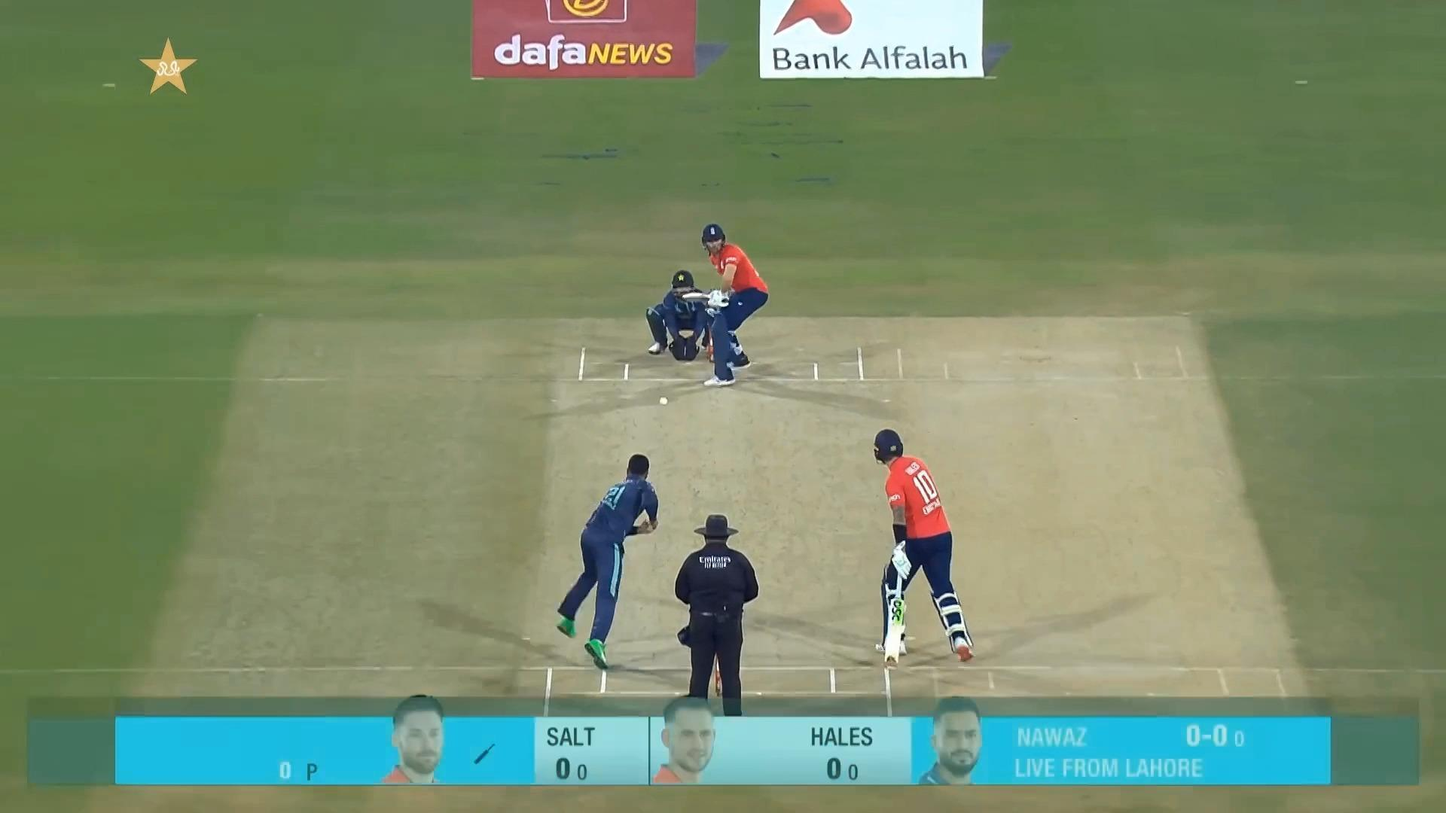BM 1: (682, 223, 769, 387)
BO: (552, 453, 661, 671)
